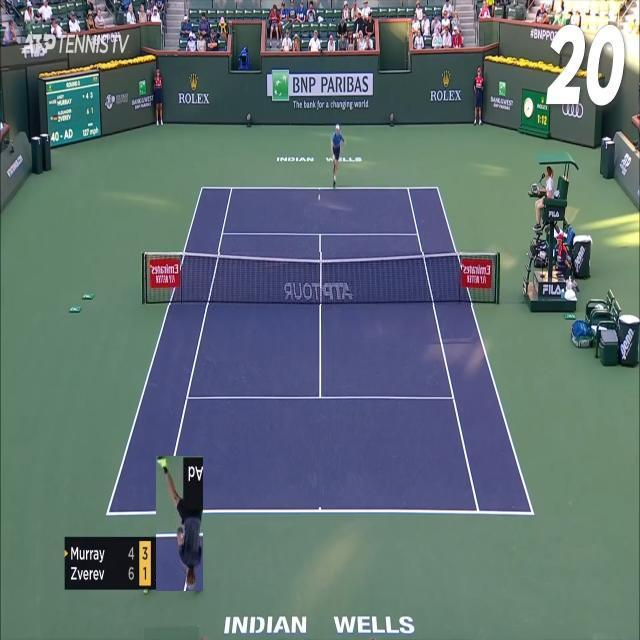court: (105, 186, 536, 516)
net: (141, 252, 500, 305)
player: (156, 456, 203, 591)
